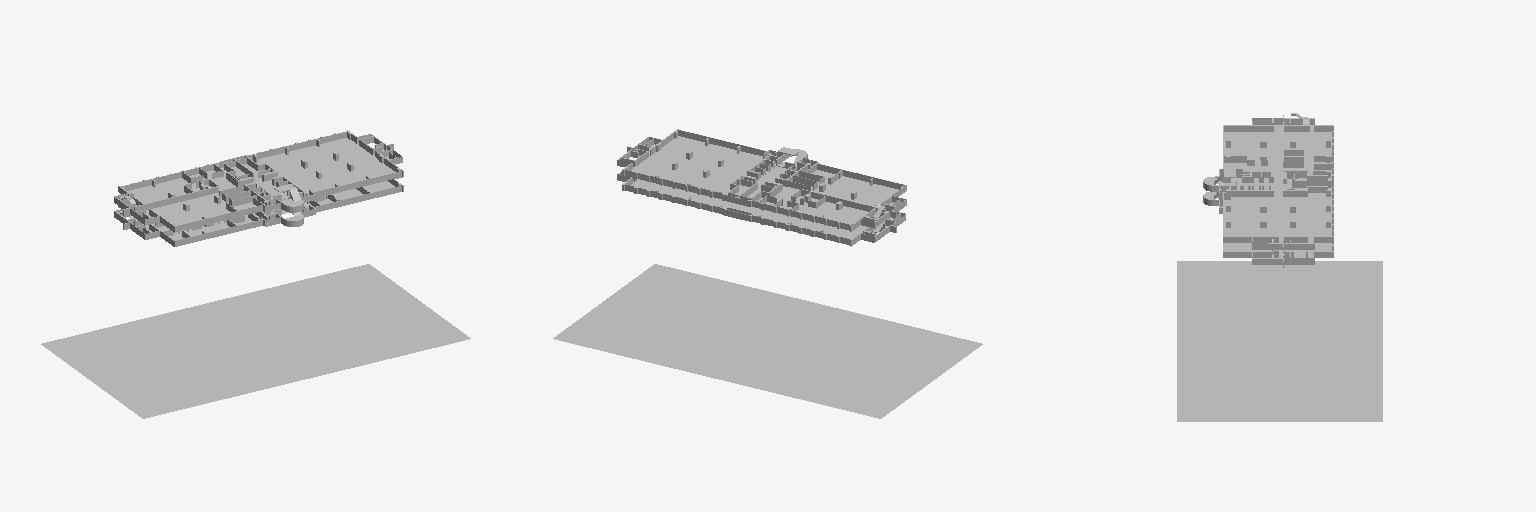
Rendered from decimo_primeiro_versao_01.obj.
The picture shows the model from 3 angles: view 1: azimuth 30°, elevation 25°; view 2: azimuth 150°, elevation 25°; view 3: azimuth 270°, elevation 25°; orthographic projection.
Bounding box in the file's own units: 78.33 × 38.9 × 42.4.